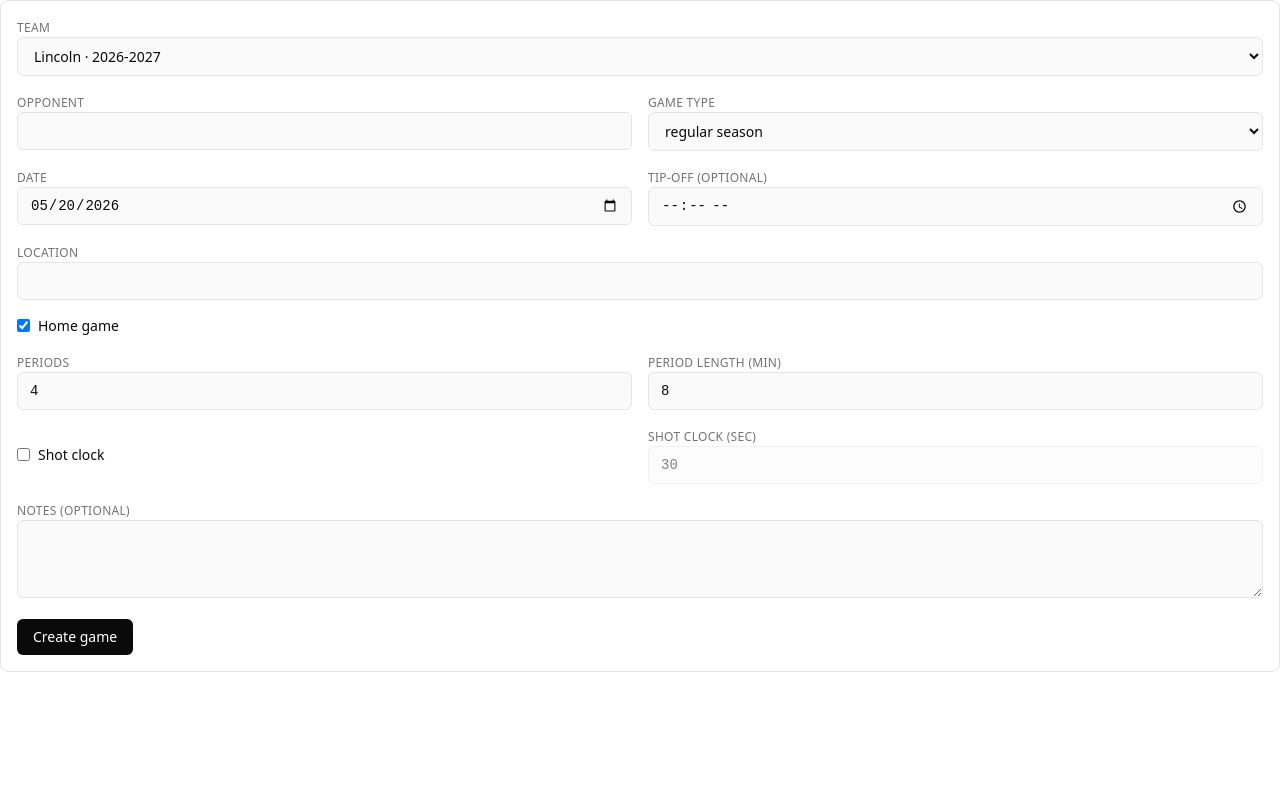
Test: CreateGameForm › surfaces email verification errors separately from coach access
Step 1. Click the button "Create game" → [75, 637], box [17, 619, 133, 655]
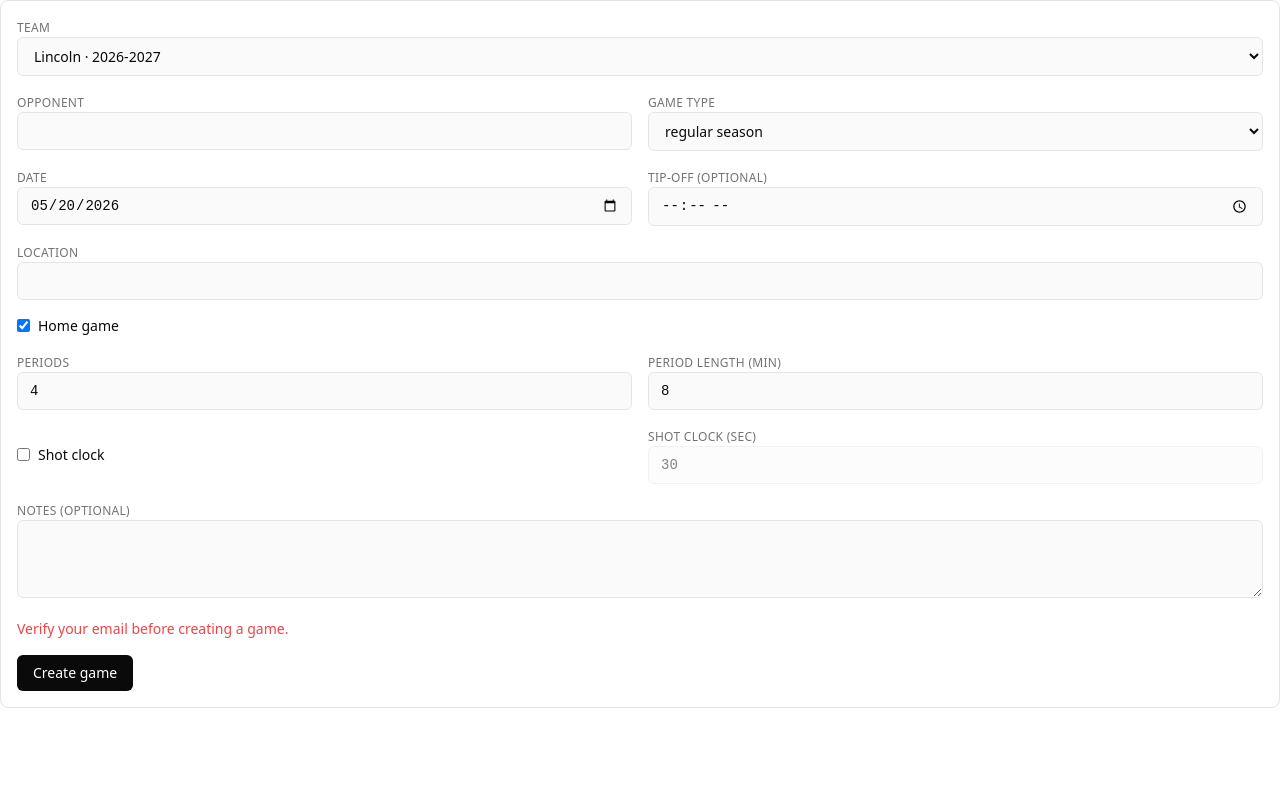
Result: the message shows "Verify your email" at [17, 619, 288, 638]
